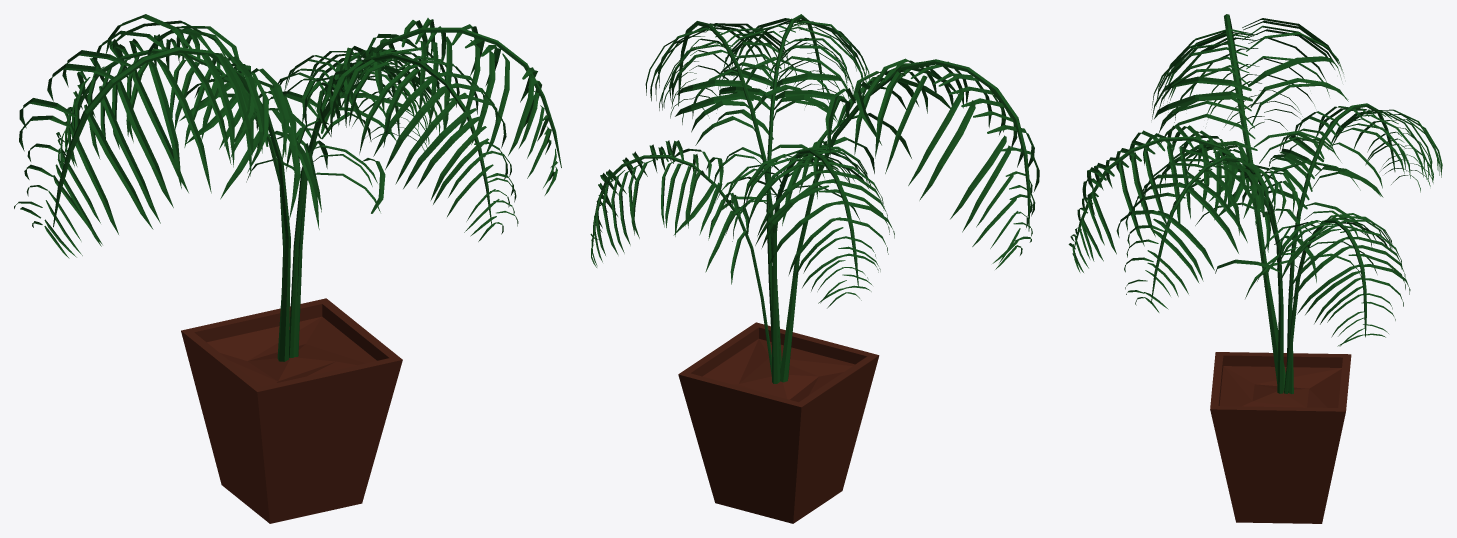
The model's file is RoomIndoorPlant.FBX.
3 views of the same model, side by side, from view 1: azimuth 30°, elevation 25°; view 2: azimuth 150°, elevation 25°; view 3: azimuth 270°, elevation 25° (orthographic). The views are drawn at different scales.
Visible parts, largest first — view 1: IndoorPlant, IndoorPlant_pot; view 2: IndoorPlant, IndoorPlant_pot; view 3: IndoorPlant, IndoorPlant_pot.
Part boxes in pixels (box(x1,y1,x2,y2)): IndoorPlant: box(14, 14, 561, 361); IndoorPlant_pot: box(181, 298, 402, 523); IndoorPlant: box(590, 14, 1039, 383); IndoorPlant_pot: box(678, 322, 879, 523); IndoorPlant: box(1068, 14, 1442, 393); IndoorPlant_pot: box(1210, 352, 1351, 523).
Size of the model in its own units: 1.08 by 1.13 by 0.9171.
